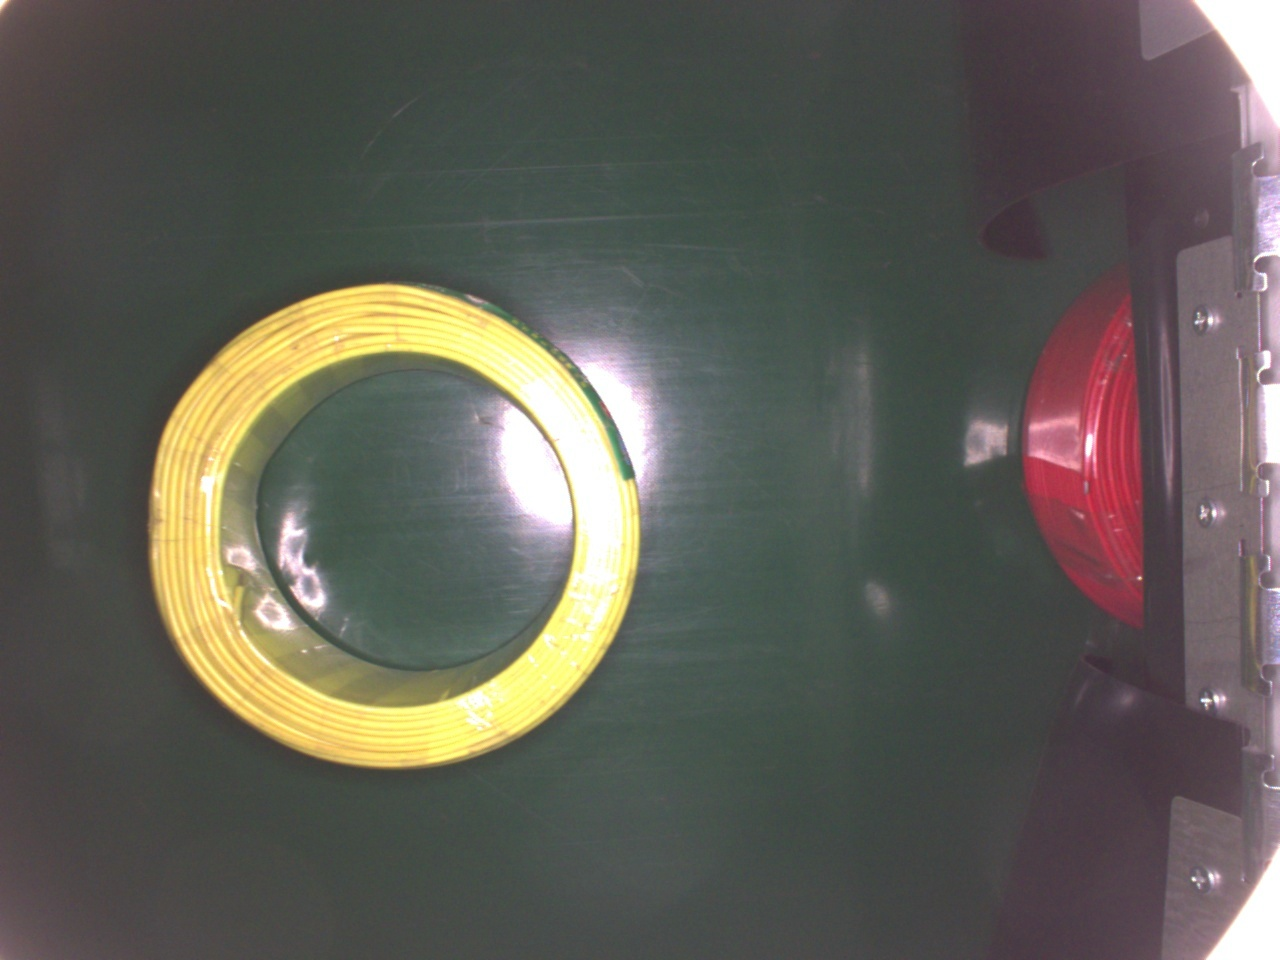red: (1020, 265, 1147, 631)
yellow: (140, 280, 635, 771)
